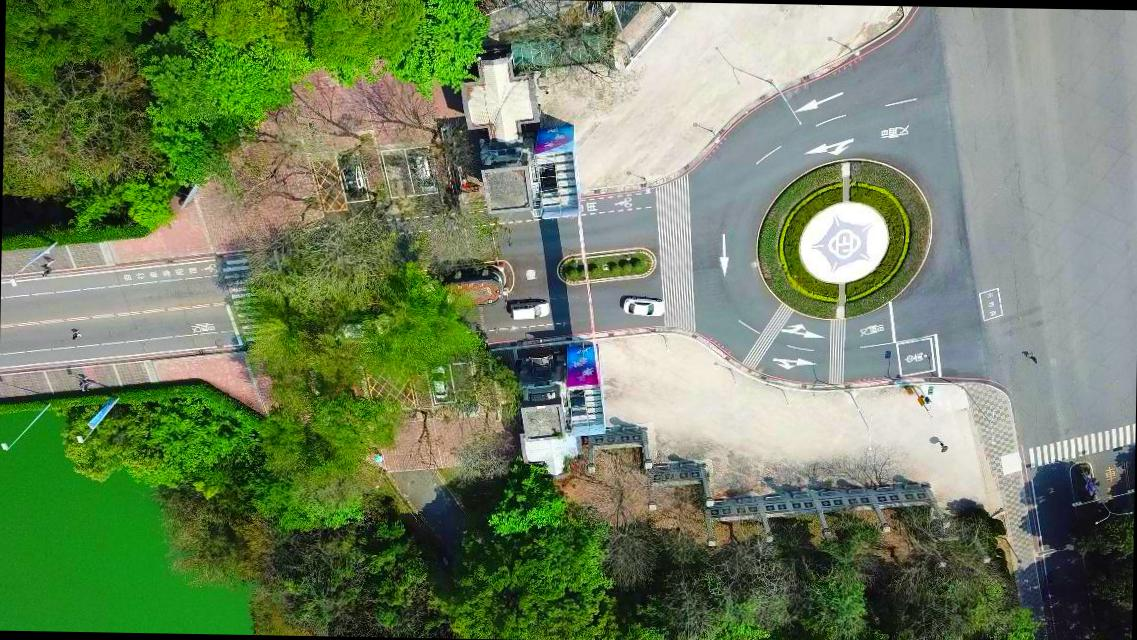vehicle: (338, 152, 369, 200), (414, 148, 437, 194), (622, 295, 664, 318), (510, 299, 551, 322), (428, 366, 448, 400)
